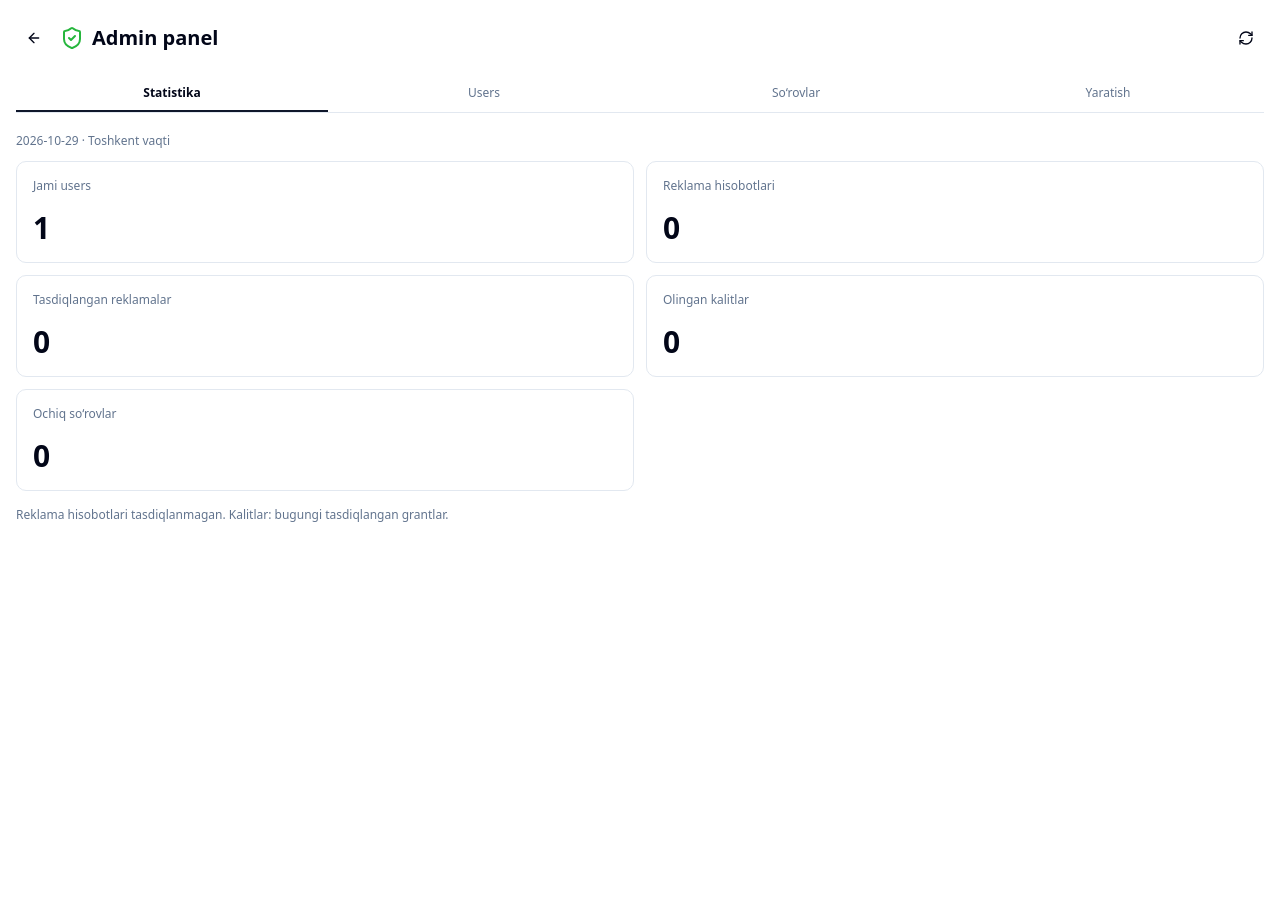
Test case: admin grant flow › searches ID, adds exact dollars and pink keys and reads updated values
Check: the text "Jami users" is shown, box top-left (33, 177), bottom-right (91, 194)
Click the button "Users" at x=484, y=94, box top-left (328, 76), bottom-right (640, 112)
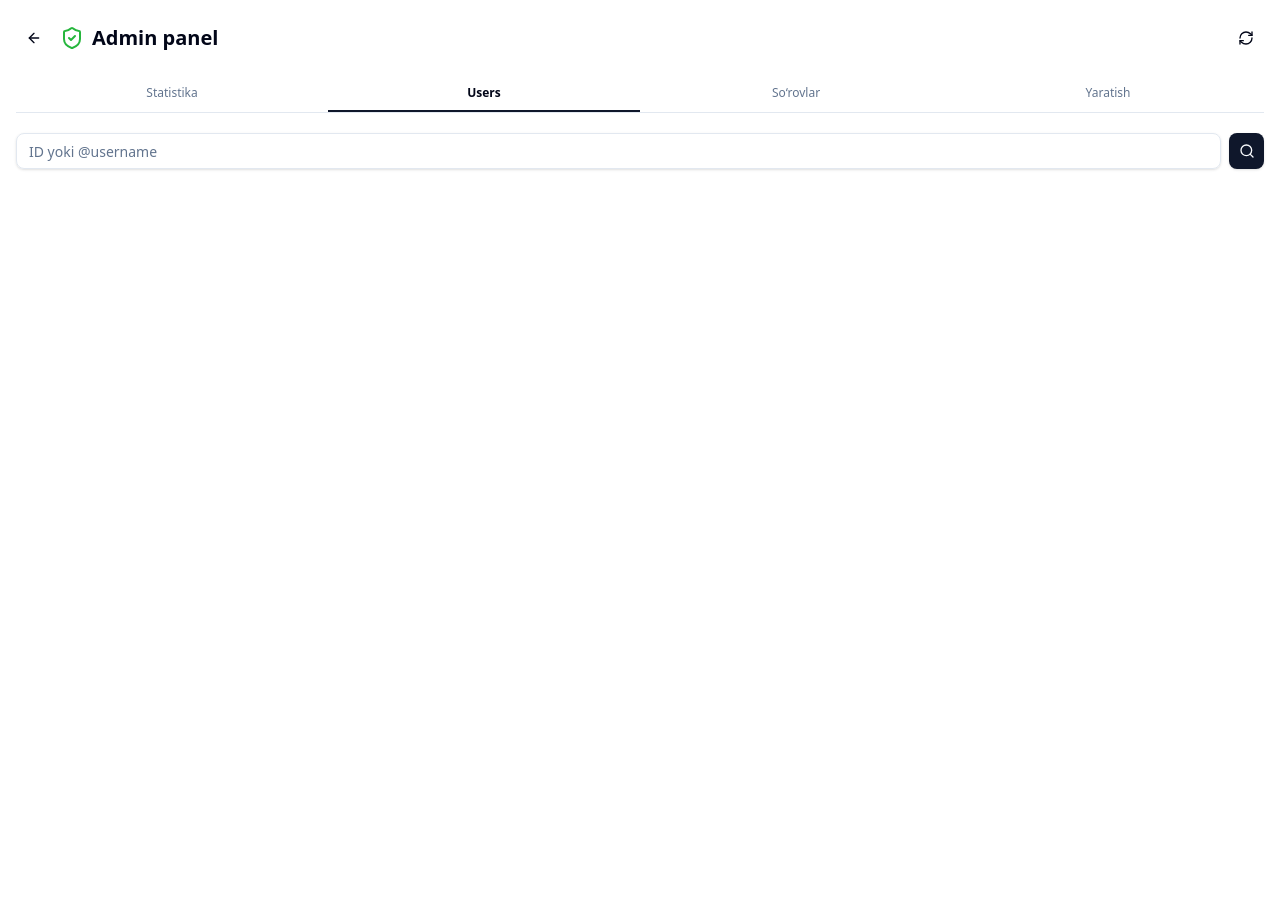
Type "123" into the field named "ID yoki username" at x=619, y=151, box top-left (16, 133), bottom-right (1221, 169)
Click the button named "Qidirish" at x=1247, y=151, box top-left (1229, 133), bottom-right (1264, 169)
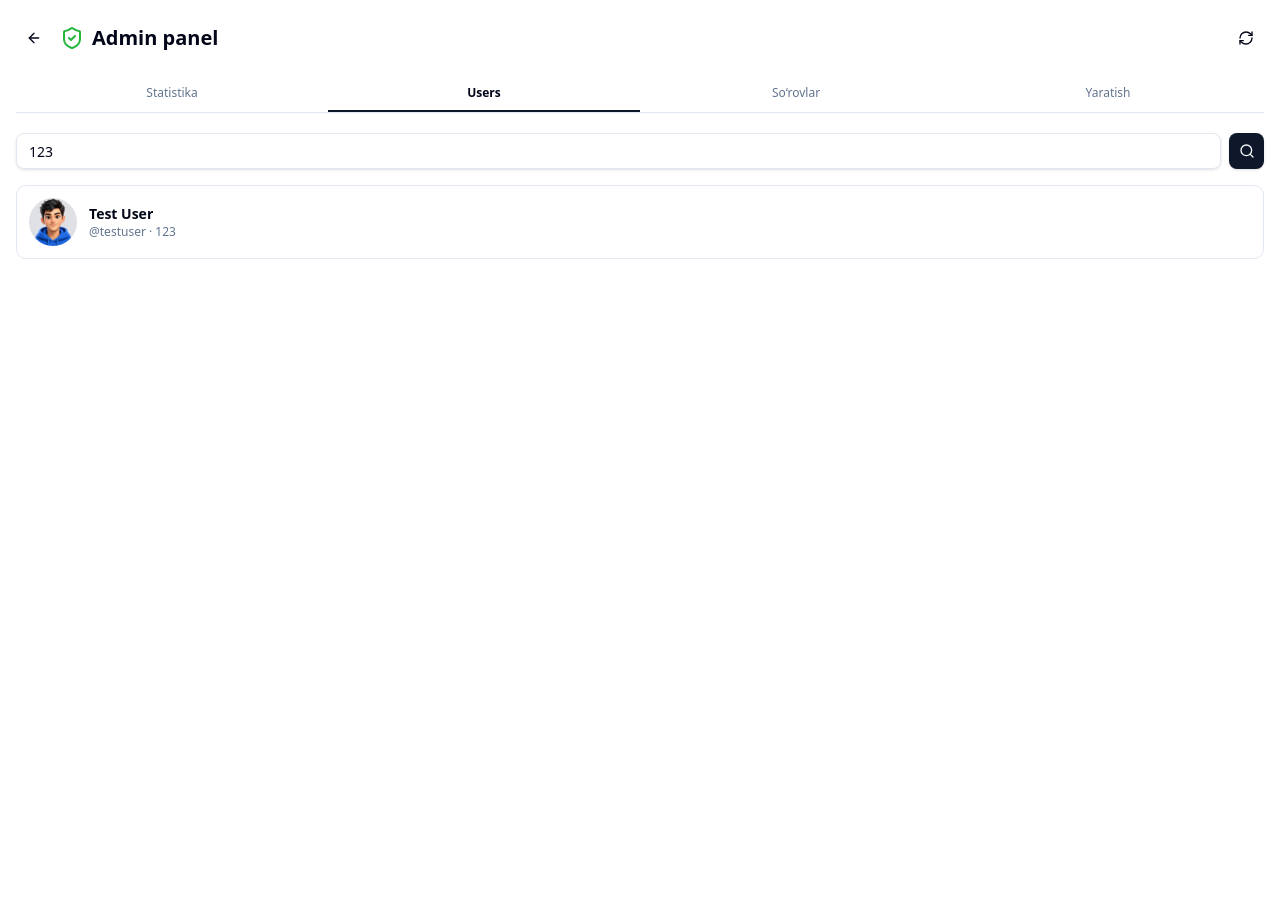
Click the button "Test User @testuser · 123" at x=53, y=222, box top-left (16, 185), bottom-right (1264, 259)
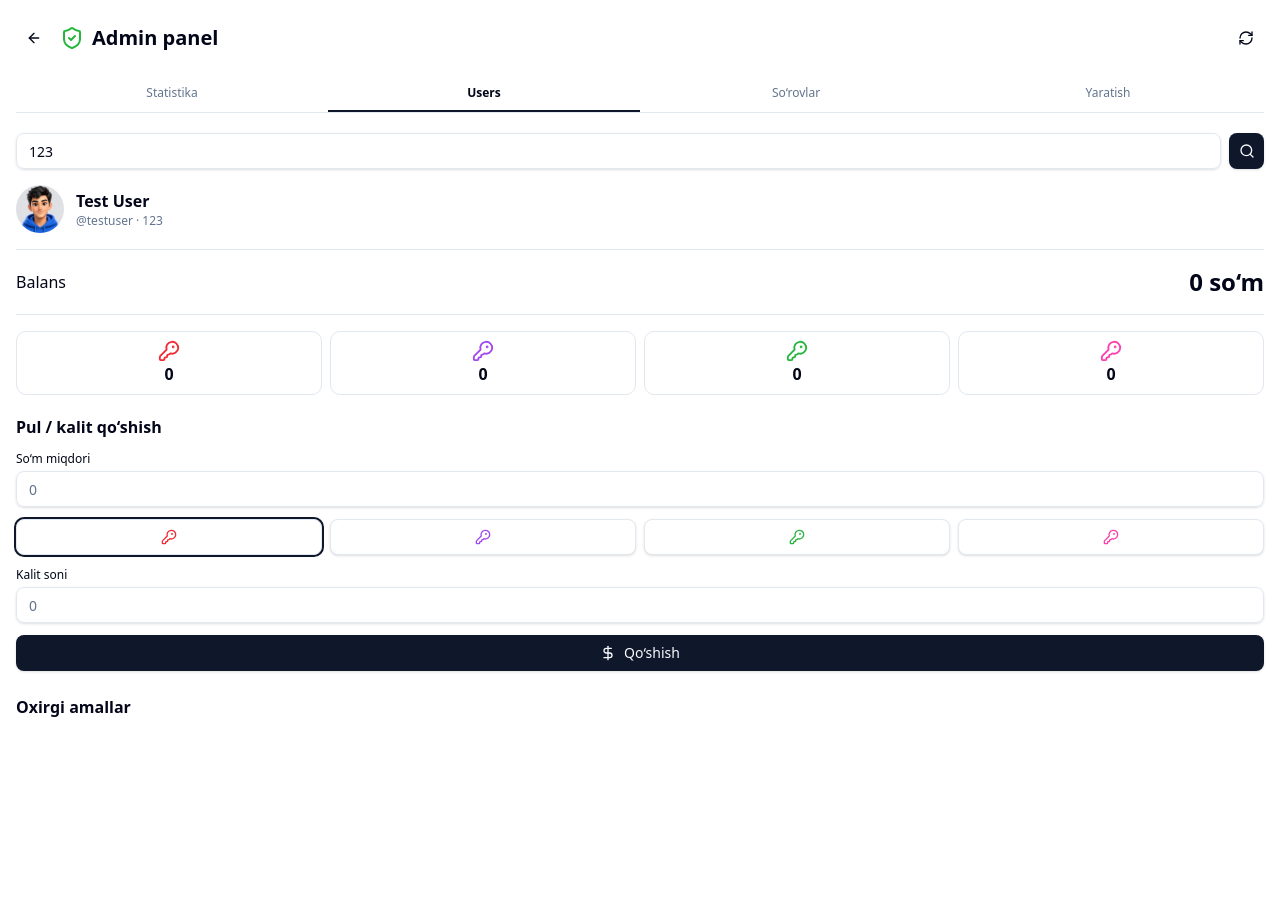
Type "63000" into the field labelled "So‘m miqdori" at x=640, y=489, box top-left (16, 471), bottom-right (1264, 507)
Type "3" into the number field labelled "Kalit soni" at x=640, y=605, box top-left (16, 587), bottom-right (1264, 623)
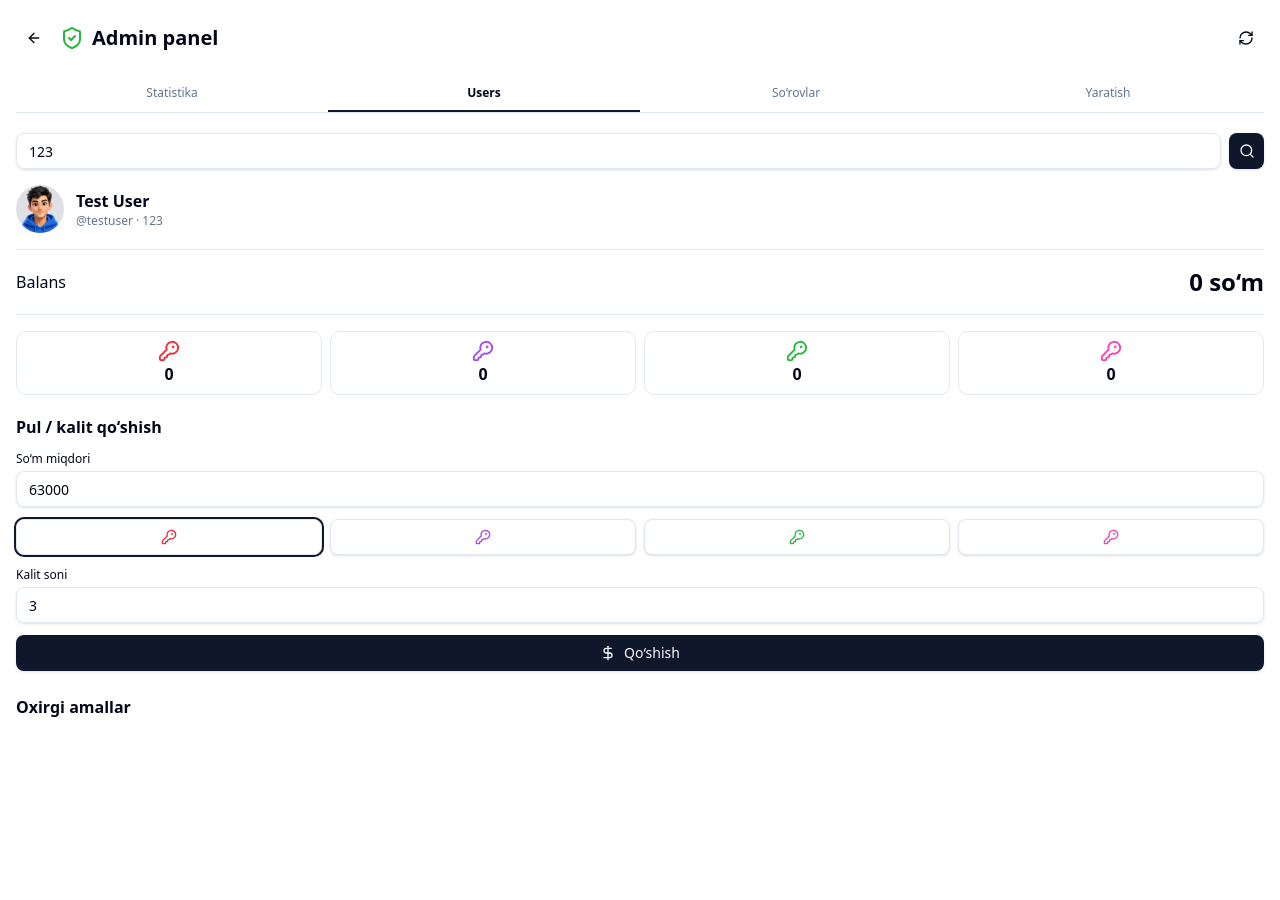
Click the button named "pink kalit" at x=1111, y=537, box top-left (958, 519), bottom-right (1264, 555)
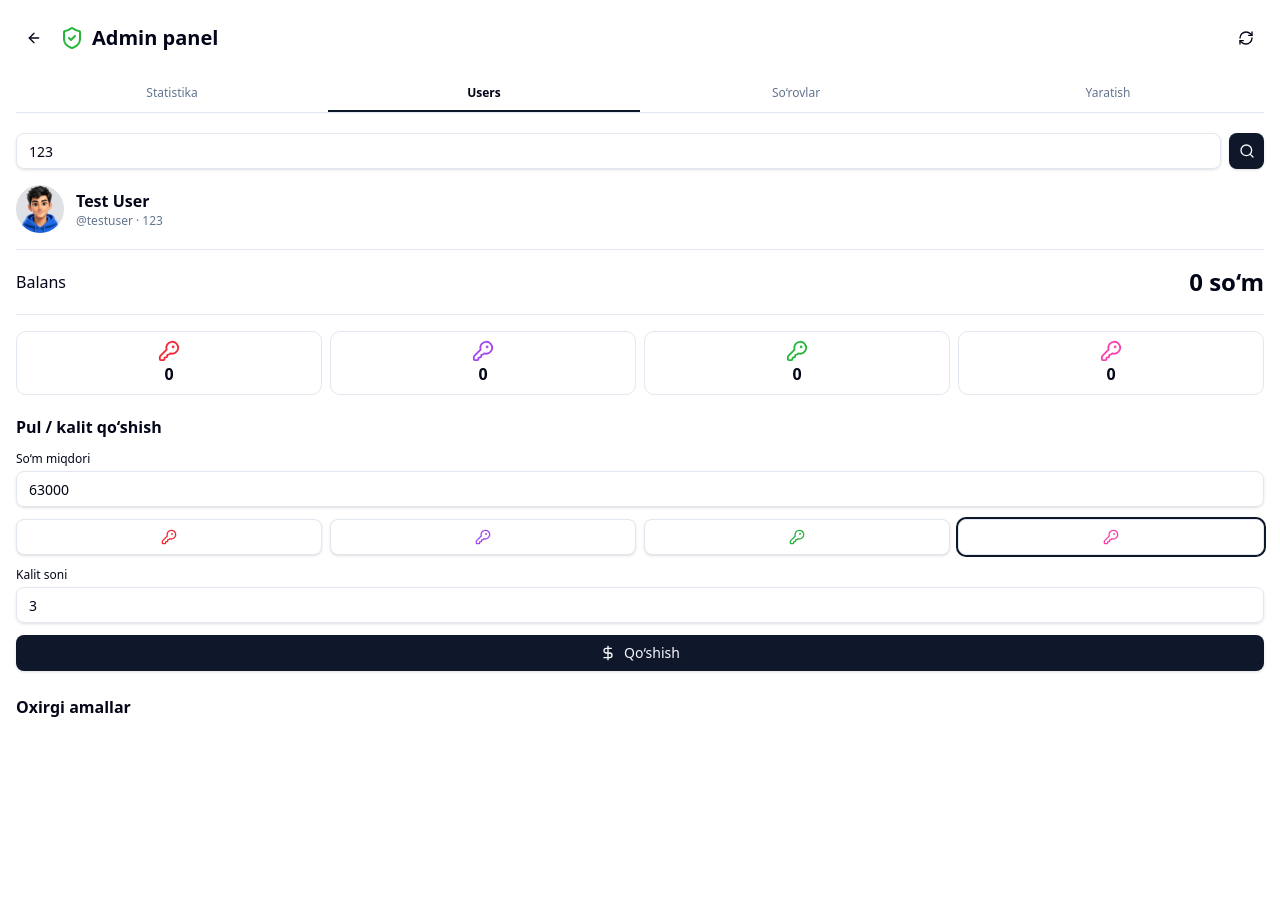
Click the button "Qo‘shish" at x=640, y=653, box top-left (16, 635), bottom-right (1264, 671)
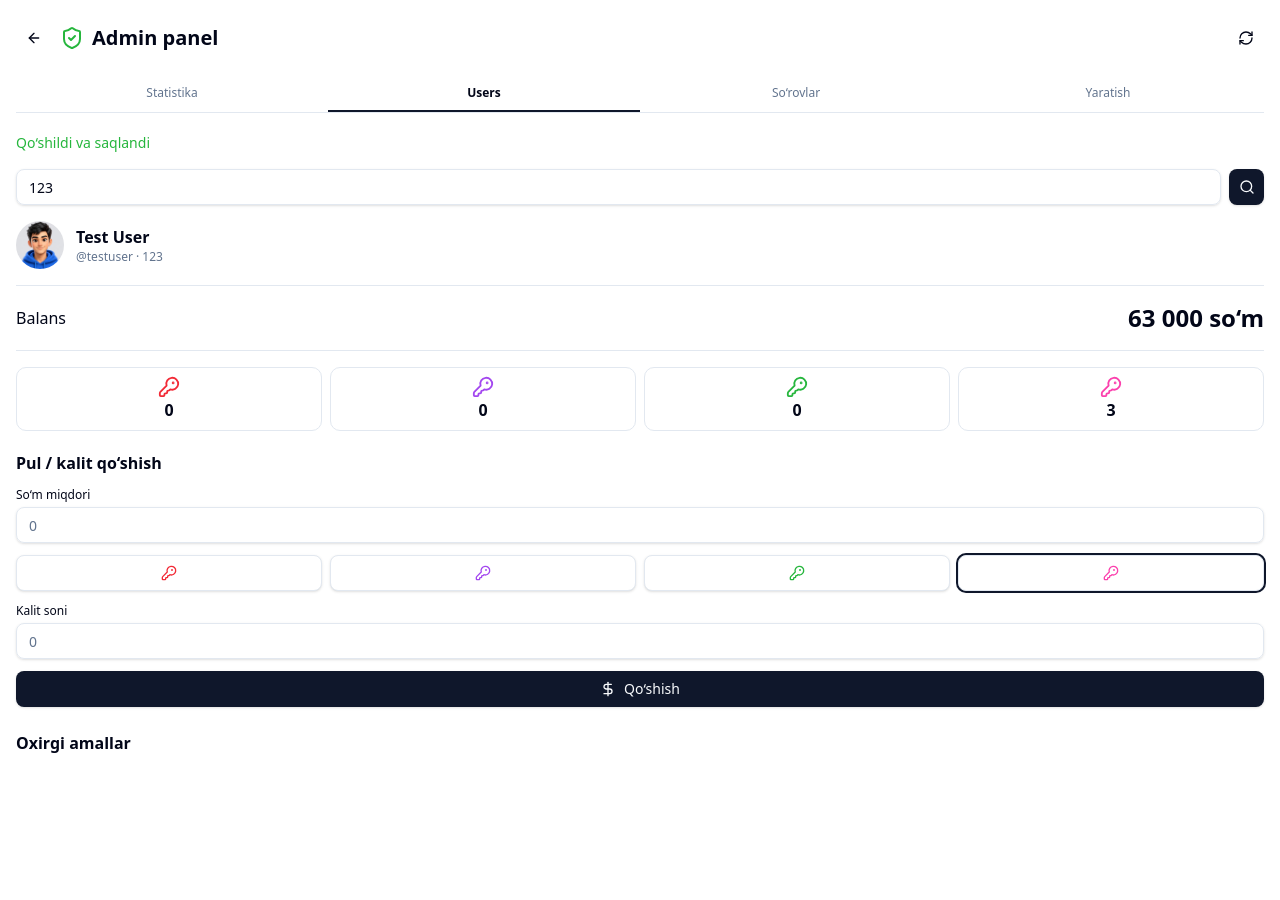
Check: the text "63 000 so‘m" is shown, box top-left (1128, 302), bottom-right (1264, 334)
Check: the text "3" is shown, box top-left (1106, 399), bottom-right (1116, 421)
